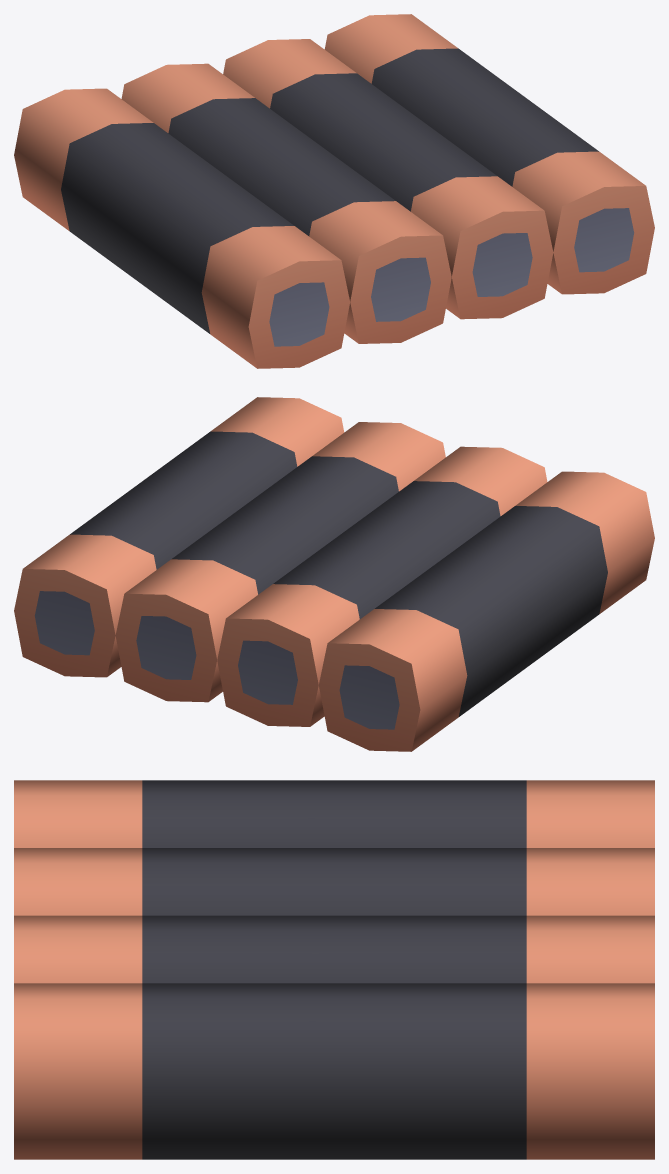
The model's file is conveyor-bars-stripe.obj.
3 views of the same model, one above another, from view 1: azimuth 30°, elevation 25°; view 2: azimuth 150°, elevation 25°; view 3: azimuth 270°, elevation 25° (orthographic). The views are drawn at different scales.
Visible parts, largest first — view 1: conveyor-bars-stripe; view 2: conveyor-bars-stripe; view 3: conveyor-bars-stripe.
Part boxes in pixels (x1=…): conveyor-bars-stripe: x1=14, y1=14, x2=654, y2=368; conveyor-bars-stripe: x1=14, y1=397, x2=654, y2=751; conveyor-bars-stripe: x1=14, y1=780, x2=654, y2=1159.
Size of the model in its own units: 1 by 0.25 by 1.
